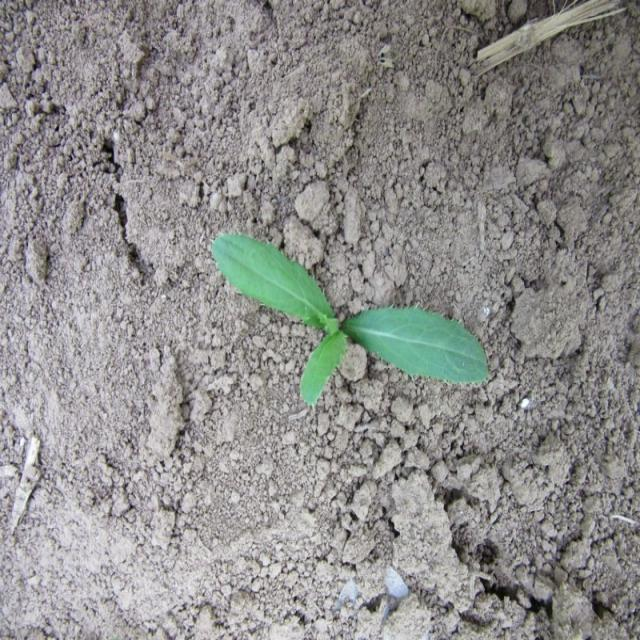field_thistle: (206, 214, 487, 432)
